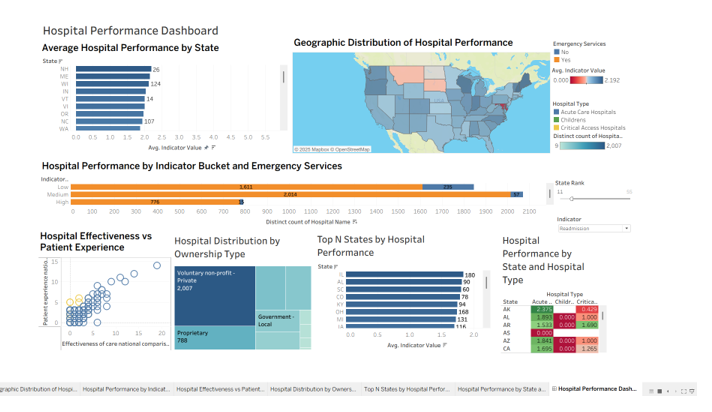

Layout of this report page (visuals, bound fields, positions):
{"tool":"tableau","page":{"name":"Hospital Performance Dashboard","canvas":[1600,900],"ordinal":0},"visuals":[{"type":"title","box":[8,8,1584,49]},{"type":"worksheet","title":"Geographic Distribution of Hospital Performance","mark":"Multipolygon","box":[681,47,688,315]},{"type":"legend","title":"Hospital Performance by Indicator Bucket and Emergency Services","param":"[federated.0zdshxp0zp5t9b1da9odq100ec58].[none:Emergency Services:nk]","box":[1376,59,187,64]},{"type":"worksheet","title":"Average Hospital Performance by State","mark":"Bar","rows":["State"],"cols":["Calculation_1679842707023233025"],"box":[9,61,659,303]},{"type":"legend","title":"Average Hospital Performance by State","param":"[federated.0zdshxp0zp5t9b1da9odq100ec58].[avg:Calculation_1679842707023233025:qk","box":[1373,130,186,88]},{"type":"legend","title":"Hospital Effectiveness vs Patient Experience","param":"[federated.0zdshxp0zp5t9b1da9odq100ec58].[none:Hospital Type:nk]","box":[1375,219,220,85]},{"type":"legend","title":"Hospital Distribution by Ownership Type","param":"[federated.0zdshxp0zp5t9b1da9odq100ec58].[ctd:Hospital Name:qk]","box":[1377,305,187,88]},{"type":"worksheet","title":"Hospital Performance by Indicator Bucket and Emergency Services","mark":"Automatic","rows":["Calculation_1679842707037929474"],"cols":["Hospital Name"],"box":[9.3,376,1369.3,186]},{"type":"filter","title":"Top N States by Hospital Performance","param":"[federated.0zdshxp0zp5t9b1da9odq100ec58].[usr:Calculation_1679842707047415811:qk","box":[1382,430,213,65]},{"type":"parameter","param":"[Parameters].[Parameter 1]","box":[1387,527,200,48]},{"type":"worksheet","title":"Hospital Effectiveness vs Patient Experience","mark":"Automatic","rows":["Patient experience national comparison (Score)"],"cols":["Effectiveness of care national comparison (Score)"],"box":[3,563,355,325]},{"type":"worksheet","title":"Top N States by Hospital Performance","mark":"Automatic","rows":["State"],"cols":["Calculation_1679842707023233025"],"box":[743,569,466,322]},{"type":"worksheet","title":"Hospital Performance by State and Hospital Type","mark":"Square","rows":["State"],"cols":["Hospital Type"],"box":[1237,572,361,322]},{"type":"worksheet","title":"Hospital Distribution by Ownership Type","mark":"Automatic","box":[362,573,383,317]}]}

Visuals, with their boxes on the page's 1600x900 design canvas (x1, y1, x2, y2). These are canvas units, not pixel positions in the 712x412 screenshot, which may show the page scaled, cropped or inside an application window:
title: [left=8, top=8, right=1592, bottom=57]
"Geographic Distribution of Hospital Performance" worksheet (Multipolygon marks): [left=681, top=47, right=1369, bottom=362]
"Hospital Performance by Indicator Bucket and Emergency Services" legend: [left=1376, top=59, right=1563, bottom=123]
"Average Hospital Performance by State" worksheet (Bar marks): [left=9, top=61, right=668, bottom=364]
"Average Hospital Performance by State" legend: [left=1373, top=130, right=1559, bottom=218]
"Hospital Effectiveness vs Patient Experience" legend: [left=1375, top=219, right=1595, bottom=304]
"Hospital Distribution by Ownership Type" legend: [left=1377, top=305, right=1564, bottom=393]
"Hospital Performance by Indicator Bucket and Emergency Services" worksheet: [left=9, top=376, right=1379, bottom=562]
"Top N States by Hospital Performance" filter: [left=1382, top=430, right=1595, bottom=495]
parameter: [left=1387, top=527, right=1587, bottom=575]
"Hospital Effectiveness vs Patient Experience" worksheet: [left=3, top=563, right=358, bottom=888]
"Top N States by Hospital Performance" worksheet: [left=743, top=569, right=1209, bottom=891]
"Hospital Performance by State and Hospital Type" worksheet (Square marks): [left=1237, top=572, right=1598, bottom=894]
"Hospital Distribution by Ownership Type" worksheet: [left=362, top=573, right=745, bottom=890]
